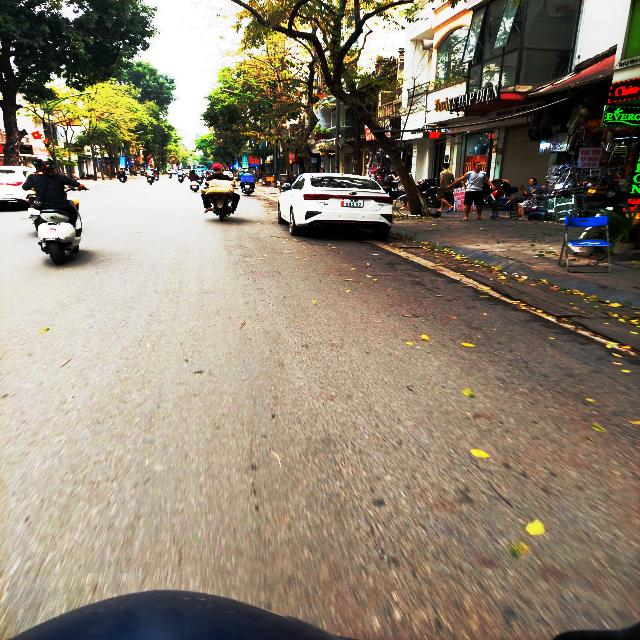license_plate: (343, 198, 367, 209)
